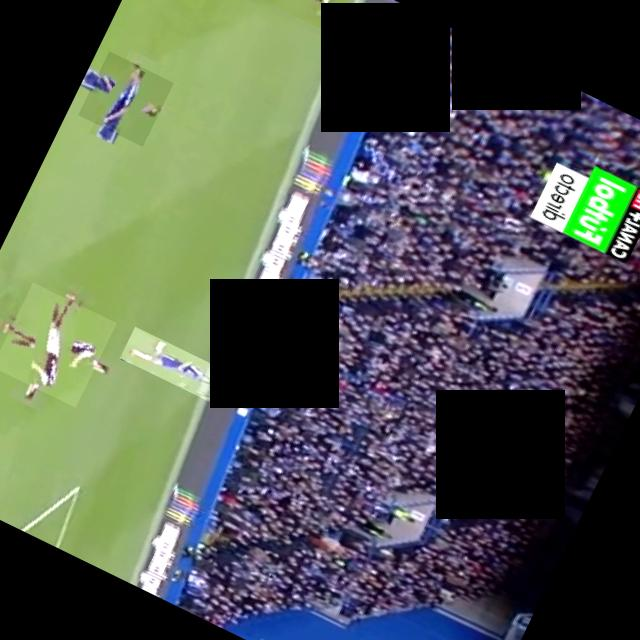referee: (225, 290, 307, 372)
soccer-player: (0, 282, 115, 407), (76, 51, 172, 146), (118, 326, 224, 402), (206, 0, 355, 40)
